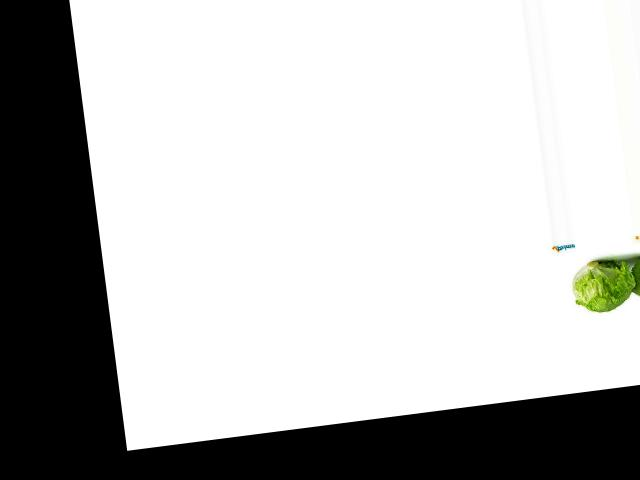lettuce: (613, 241, 640, 305)
